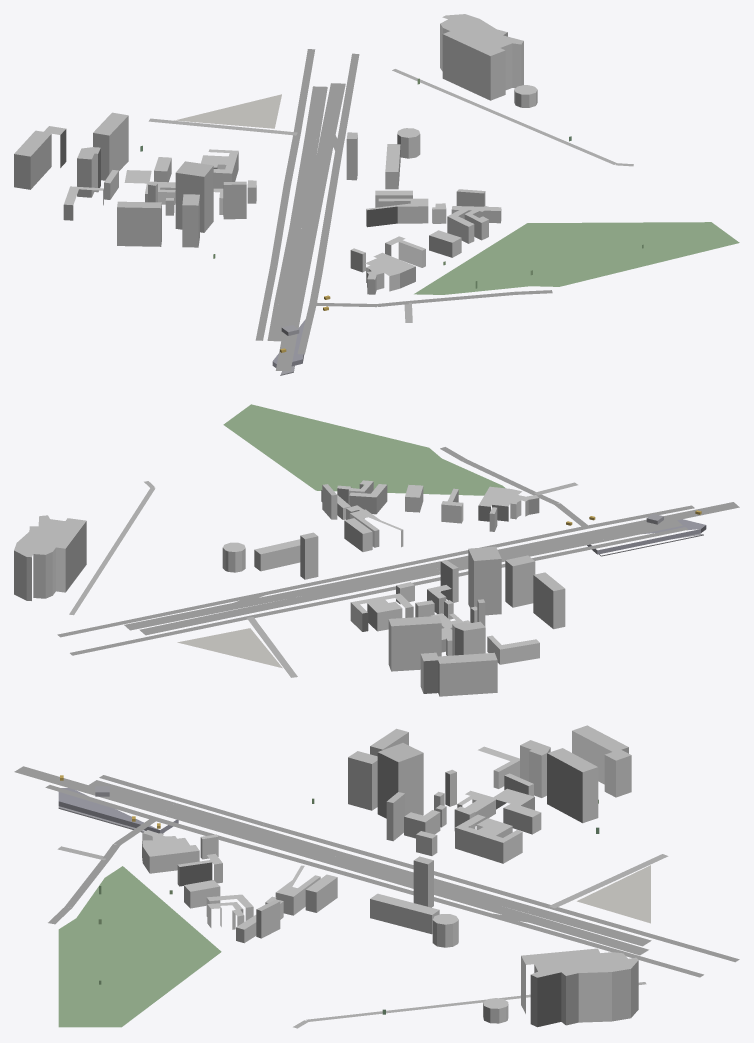
3 views of the same model, one above another, from view 1: azimuth 30°, elevation 25°; view 2: azimuth 150°, elevation 25°; view 3: azimuth 270°, elevation 25° (orthographic). The views are drawn at different scales.
Size of the model in its own units: 530 by 80.11 by 613.
